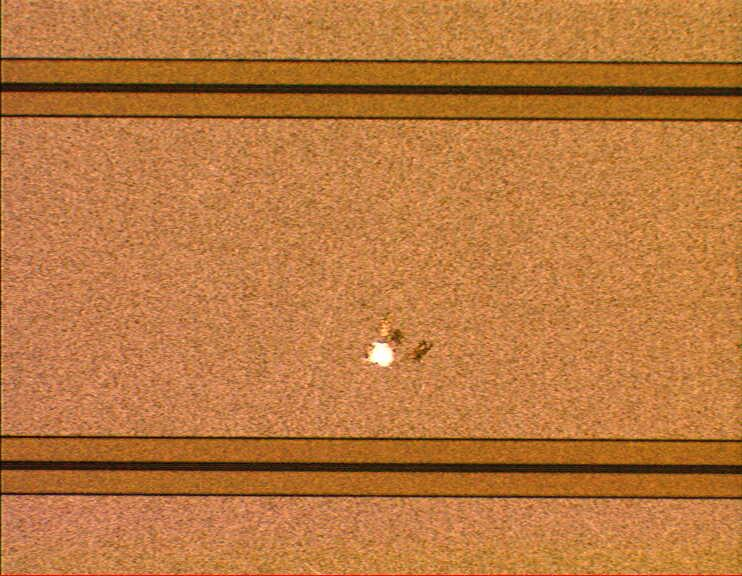SCRATCH: (350, 296, 445, 374)
